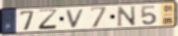5: (140, 4, 158, 26)
7: (89, 6, 108, 29), (19, 10, 37, 31)
N: (116, 5, 138, 28)
V: (65, 8, 87, 29)
Z: (37, 8, 60, 31)
